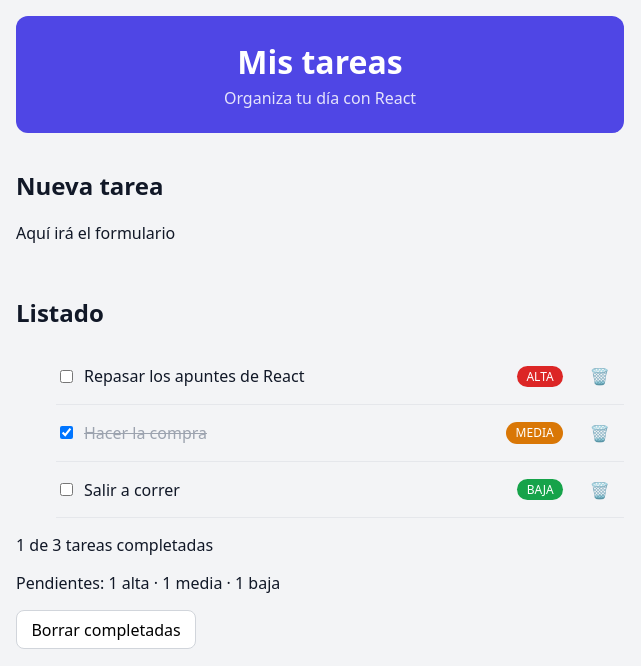
Scenario: App › marca una tarea como completada y actualiza el resumen
The image size is (641, 666).
Expected: the text "1 de 3 tareas completadas" is shown, [16,534,213,556]
Step 1. Click the checkbox labelled "Salir a correr" → click(66, 490), box [60,483,73,496]
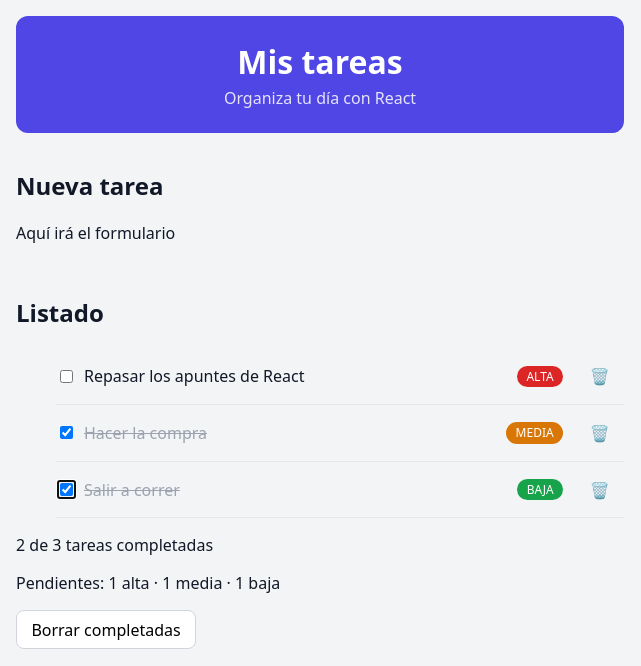
Now the text "2 de 3 tareas completadas" is shown, box [16,534,213,556]
